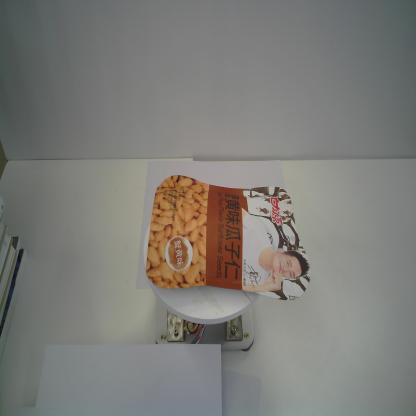Dried Fruit: (145, 174, 312, 302)
